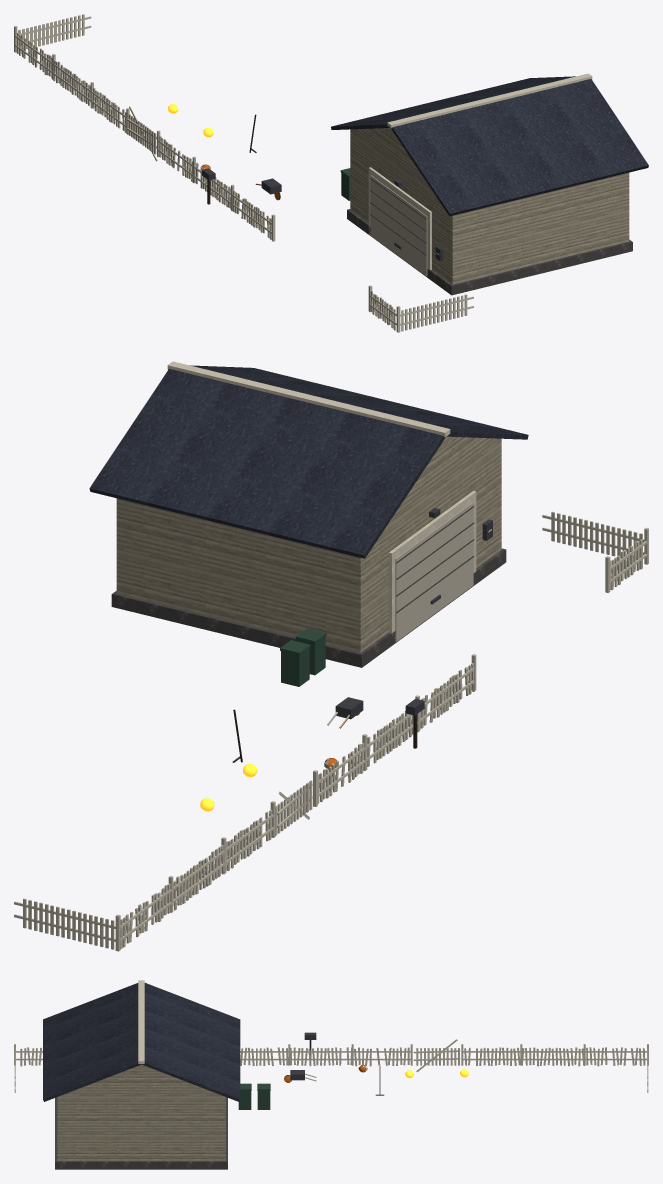
Rendered from house_31.glb.
The picture shows the model from 3 angles, top to bottom: view 1: azimuth 30°, elevation 25°; view 2: azimuth 150°, elevation 25°; view 3: azimuth 270°, elevation 25°; orthographic projection. The views are drawn at different scales.
Parts seen in each view (by area): view 1: geo_house31_garage, geo_house31_yard; view 2: geo_house31_garage, geo_house31_yard; view 3: geo_house31_garage, geo_house31_yard.
Part boxes in pixels (bbox=[...]): geo_house31_garage: bbox=[331, 73, 648, 295]; geo_house31_yard: bbox=[14, 14, 473, 332]; geo_house31_garage: bbox=[89, 361, 528, 667]; geo_house31_yard: bbox=[14, 511, 648, 951]; geo_house31_garage: bbox=[43, 980, 240, 1169]; geo_house31_yard: bbox=[14, 1032, 648, 1109].
Size of the model in its own units: 12.8 by 6.2 by 30.1.
Materials: 11 (5 with a texture image).
